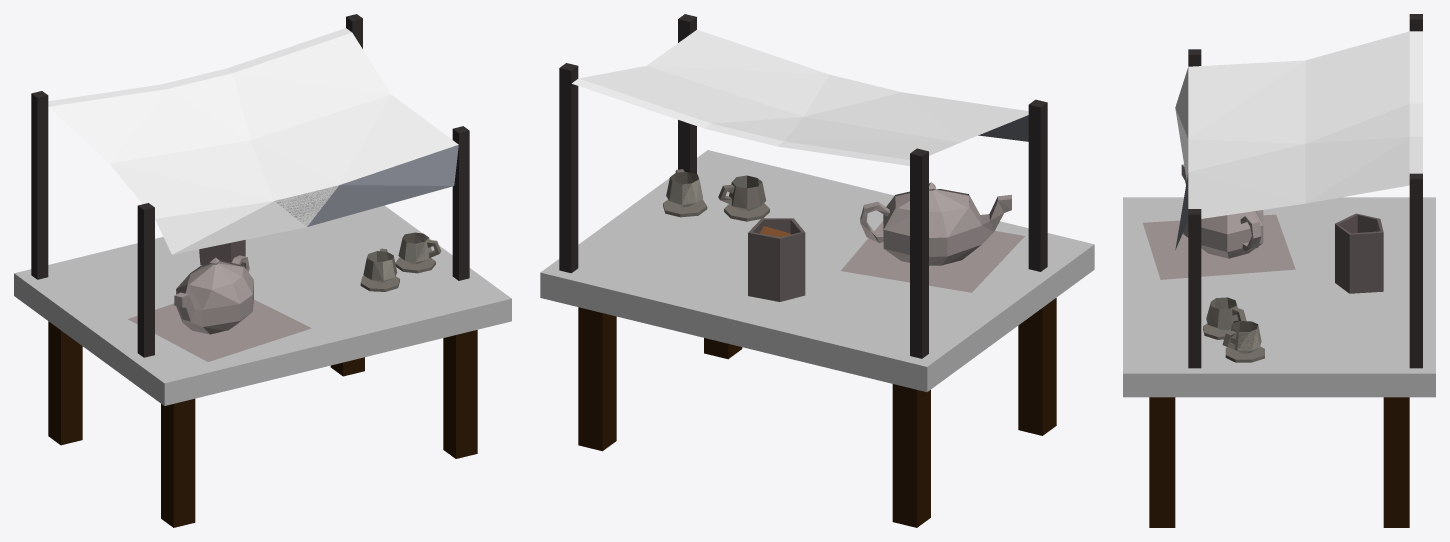
File: tea_stall_8.obj
3 renders of one model, left to right at view 1: azimuth 30°, elevation 25°; view 2: azimuth 150°, elevation 25°; view 3: azimuth 270°, elevation 25°, orthographic. The views are drawn at different scales.
Parts seen in each view (by area): view 1: 1417; view 2: 1417; view 3: 1417.
Part boxes in pixels (x1,y1,x2,y2): 1417: [14, 14, 511, 527]; 1417: [540, 14, 1094, 527]; 1417: [1123, 14, 1435, 527].
Bounding box in the file's own units: 256 × 240 × 192.
